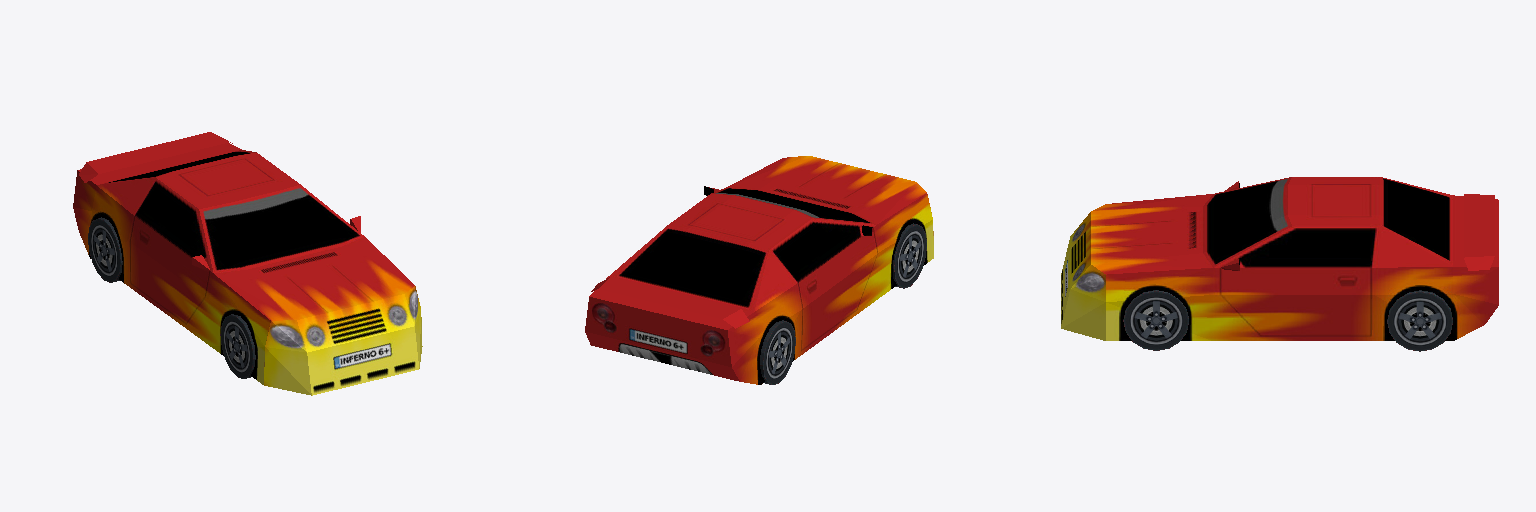
3 renders of one model, left to right at view 1: azimuth 30°, elevation 25°; view 2: azimuth 150°, elevation 25°; view 3: azimuth 270°, elevation 25°, orthographic.
Parts seen in each view (by area): view 1: car; view 2: car; view 3: car.
Boxes of the visible parts, <box> form: car: <box>73,132,422,395</box>; car: <box>585,156,933,384</box>; car: <box>1061,177,1498,351</box>.
Size of the model in its own units: 1.99 by 1.27 by 4.49.
1 materials, 1 textured.